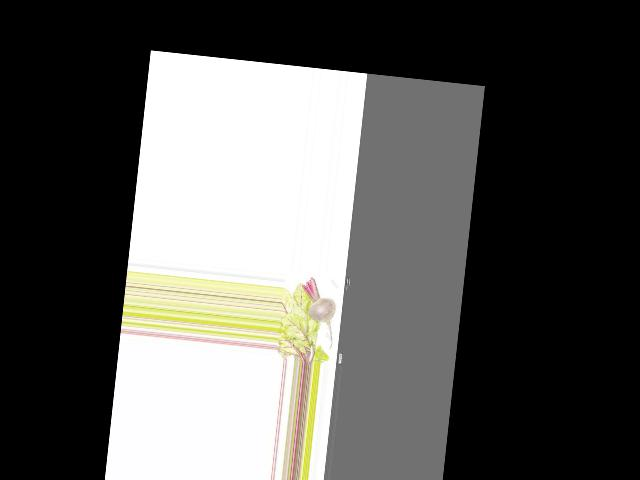beet: (296, 276, 339, 349)
